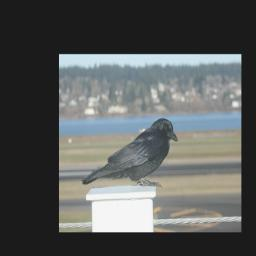Crow: (81, 117, 178, 187)
